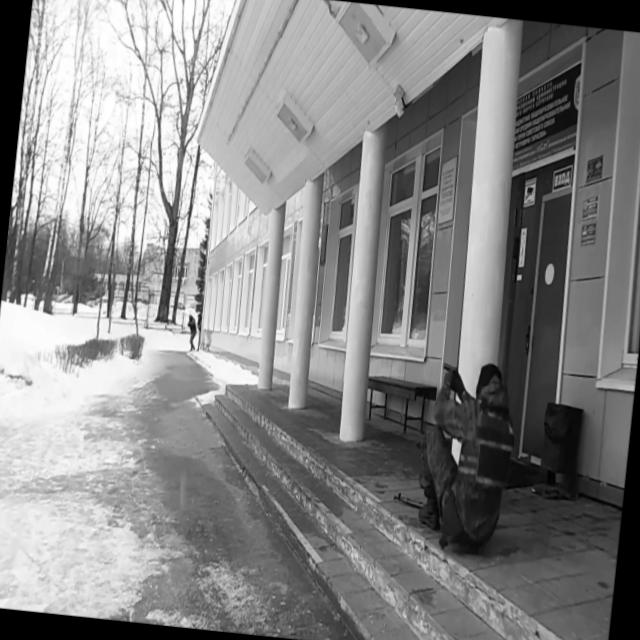gun: (391, 488, 433, 512), (440, 360, 460, 382)
person: (184, 311, 198, 352)
person with a gun: (410, 356, 522, 558)
